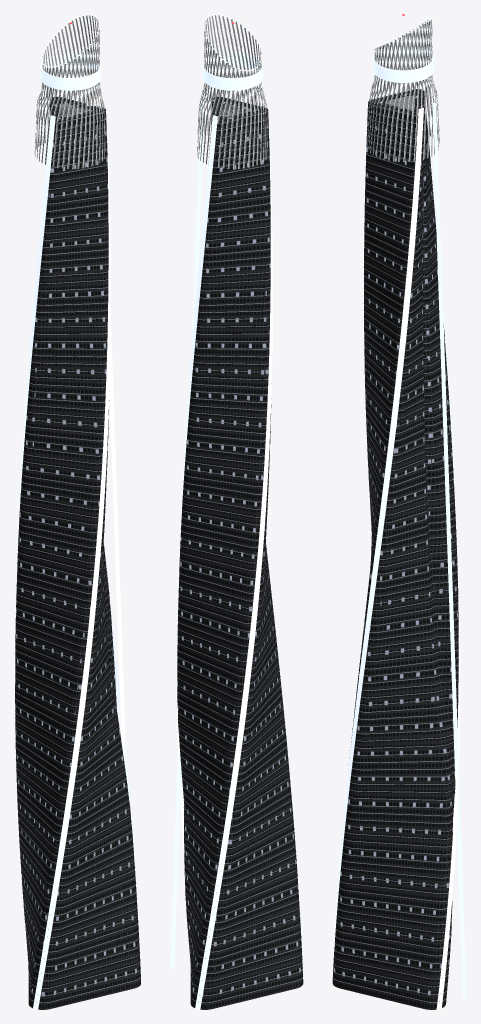
Rendered from shanghai_tower.glb.
The picture shows the model from 3 angles, left to right: view 1: azimuth 30°, elevation 25°; view 2: azimuth 150°, elevation 25°; view 3: azimuth 330°, elevation 25°; orthographic projection.
Parts seen in each view (by area): view 1: Tower_Skin, LED_Tower_Bands, LED_Tower_CornerLines, Tower_CrownFins, LED_Tower_CrownInner, LED_Tower_Notch; view 2: Tower_Skin, LED_Tower_Bands, LED_Tower_CornerLines, Tower_CrownFins, LED_Tower_CrownInner, LED_Tower_Notch; view 3: Tower_Skin, LED_Tower_Bands, LED_Tower_CornerLines, Tower_CrownFins, LED_Tower_Notch, LED_Tower_CrownInner.
Boxes of the visible parts, bbox=[...] form: Tower_Skin: bbox=[15, 97, 140, 1009]; LED_Tower_Bands: bbox=[15, 96, 140, 1003]; LED_Tower_CornerLines: bbox=[14, 89, 141, 1009]; Tower_CrownFins: bbox=[34, 15, 106, 168]; LED_Tower_CrownInner: bbox=[34, 16, 105, 168]; LED_Tower_Notch: bbox=[99, 95, 125, 765]; Tower_Skin: bbox=[177, 97, 303, 1009]; LED_Tower_Bands: bbox=[177, 96, 302, 1003]; LED_Tower_CornerLines: bbox=[176, 89, 303, 1009]; Tower_CrownFins: bbox=[197, 15, 267, 169]; LED_Tower_CrownInner: bbox=[197, 15, 267, 168]; LED_Tower_Notch: bbox=[170, 95, 204, 968]; Tower_Skin: bbox=[332, 89, 458, 1009]; LED_Tower_Bands: bbox=[332, 89, 458, 1002]; LED_Tower_CornerLines: bbox=[332, 82, 460, 1009]; Tower_CrownFins: bbox=[367, 19, 439, 161]; LED_Tower_Notch: bbox=[432, 102, 466, 998]; LED_Tower_CrownInner: bbox=[367, 20, 439, 161].
Size of what is drawn, in the model's own units: 80.67 by 633 by 75.81.
Materials: 8 (3 with a texture image).
